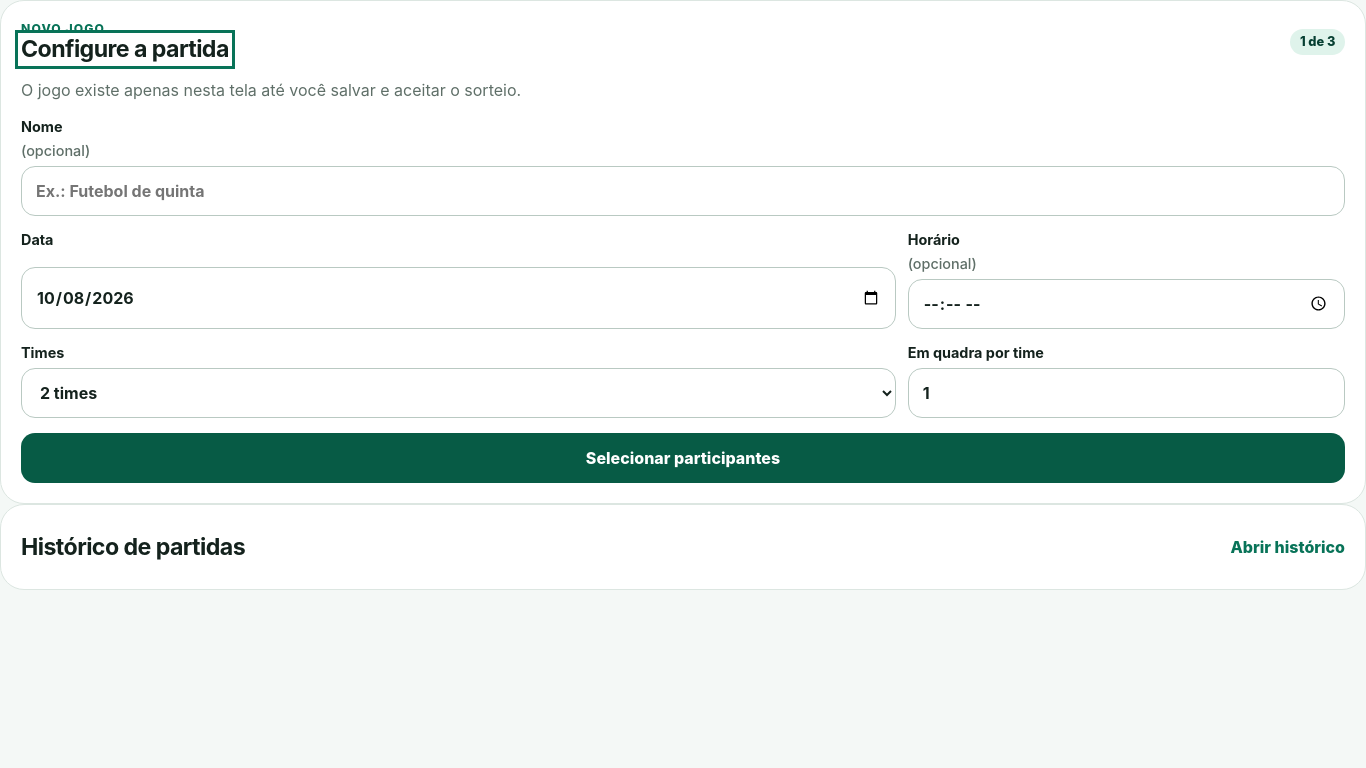
Test: histórico e detalhe da Fase 7 › permite leitura do próprio grupo para owner sem controles de alteração no detalhe
The width and height of the screenshot is (1366, 768).
Step 1. Click the button "Abrir histórico" → (1288, 547), box [1230,525,1345,569]
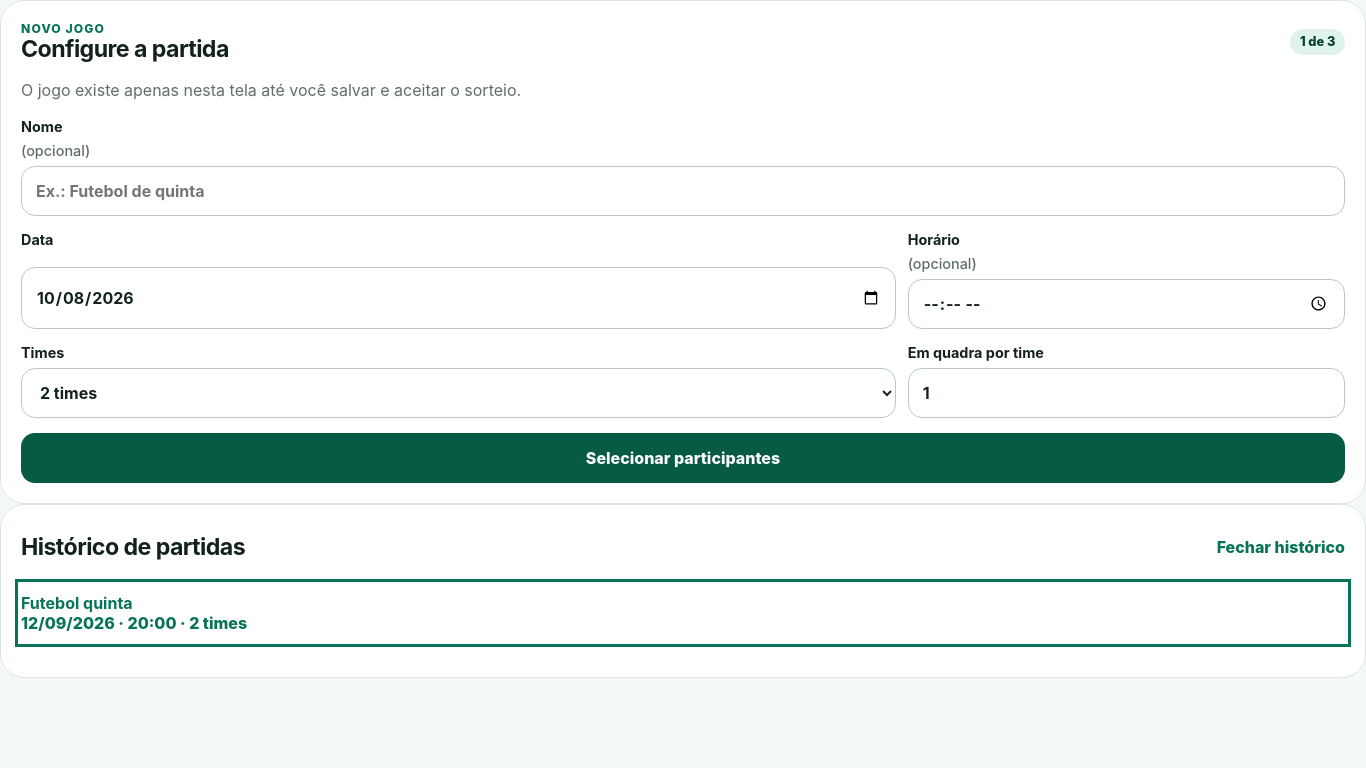
Step 2. Click the button "Futebol quinta 12/09/2026 · 20:00 · 2 times" → (77, 603), box [21,585,1345,641]
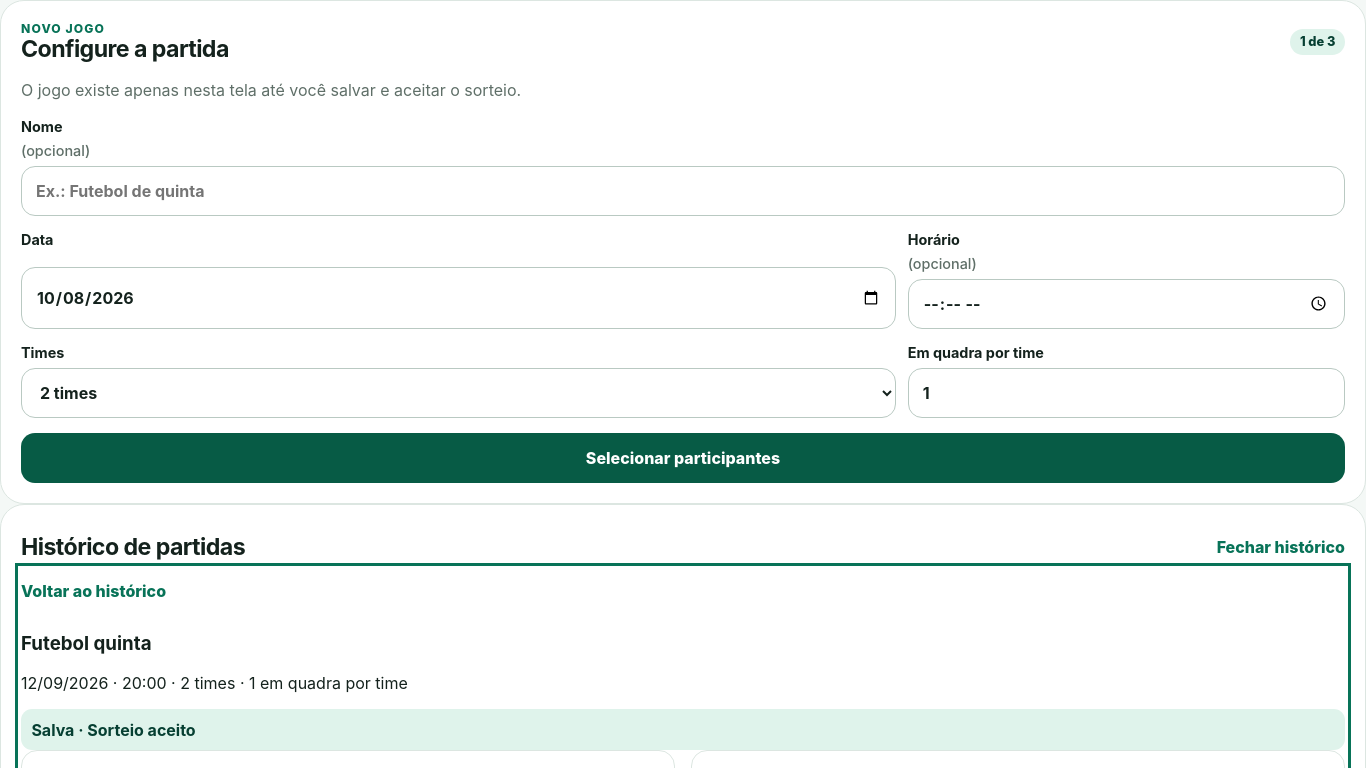
Step 3. Click the button "Voltar ao histórico" → (94, 591), box [21,569,166,613]
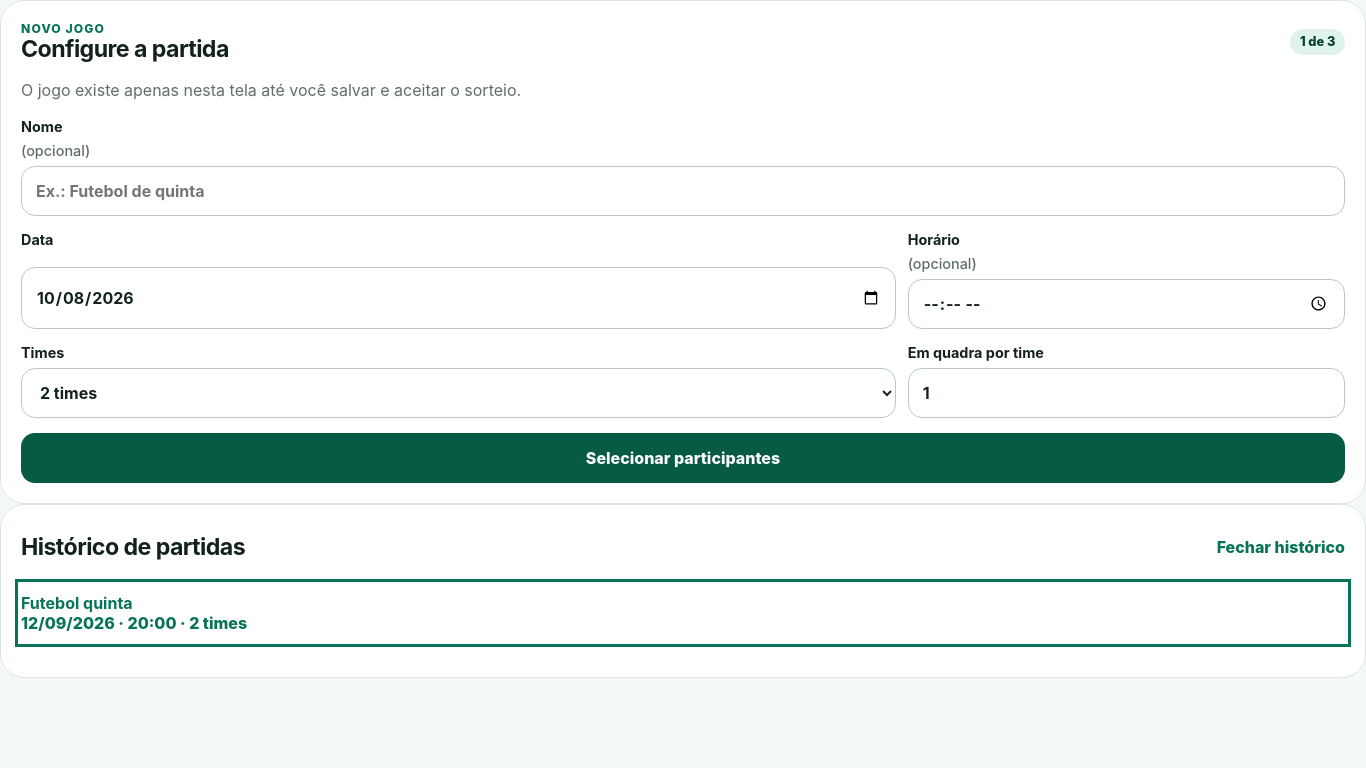
Now the button "Futebol quinta 12/09/2026 · 20:00 · 2 times" is shown, box [21,585,1345,641]
